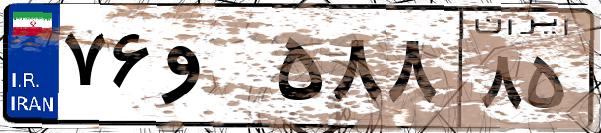5: (270, 28, 330, 110), (525, 38, 570, 115)
6: (110, 28, 158, 98)
7: (57, 26, 110, 100)
8: (385, 28, 445, 110), (330, 28, 385, 110), (475, 38, 525, 113)
و: (158, 20, 270, 120)
